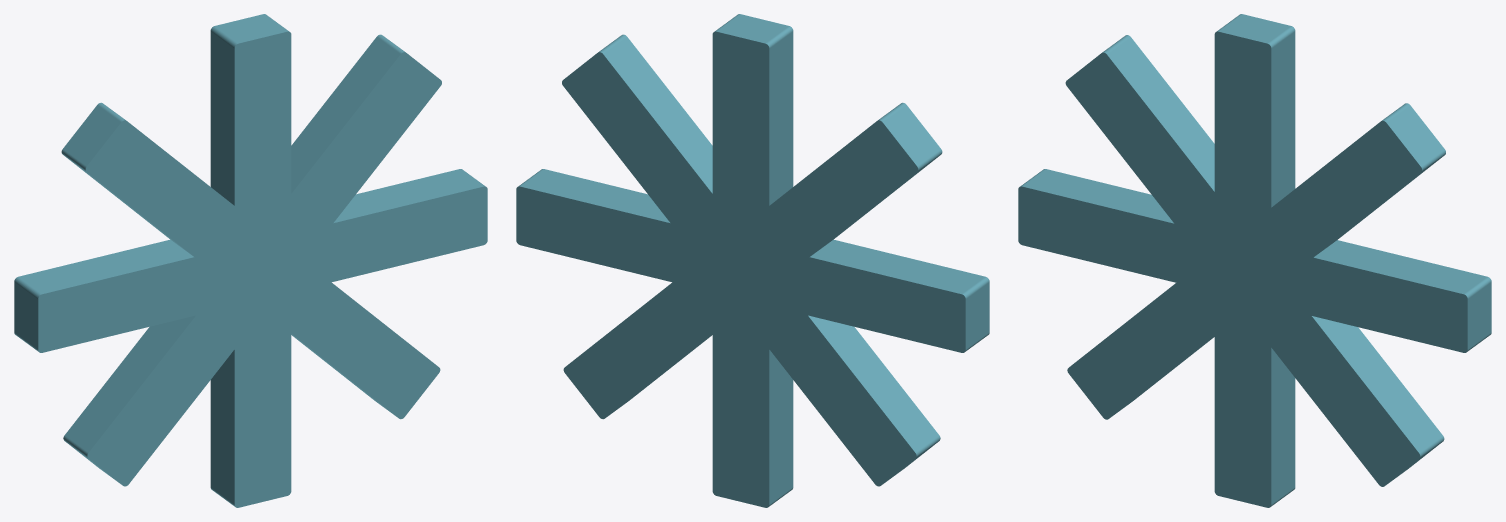
The model's file is star.glb.
3 views of the same model, side by side, from view 1: azimuth 30°, elevation 25°; view 2: azimuth 150°, elevation 25°; view 3: azimuth 330°, elevation 25° (orthographic).
Parts seen in each view (by area): view 1: Mesh_Mesh_head_geo.001_lambert2SG.001; view 2: Mesh_Mesh_head_geo.001_lambert2SG.001; view 3: Mesh_Mesh_head_geo.001_lambert2SG.001.
Boxes of the visible parts, x1,y1,x2,y2 form: Mesh_Mesh_head_geo.001_lambert2SG.001: (14,14,487,507); Mesh_Mesh_head_geo.001_lambert2SG.001: (516,14,989,507); Mesh_Mesh_head_geo.001_lambert2SG.001: (1018,14,1491,507).
Bounding box in the file's own units: 0.649 × 0.6406 × 0.06.
